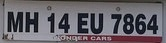character: (7, 10, 23, 33), (24, 10, 39, 34), (56, 12, 69, 34), (90, 12, 103, 34), (76, 12, 88, 34), (134, 13, 146, 35), (146, 14, 158, 35), (122, 12, 133, 34), (110, 13, 121, 34), (46, 11, 55, 35)
